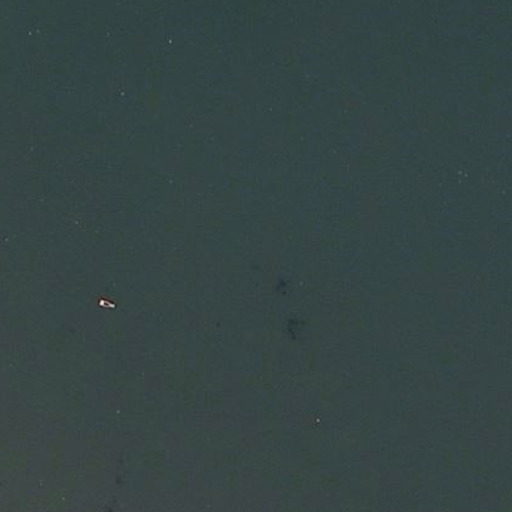ship: (95, 295, 117, 313)
